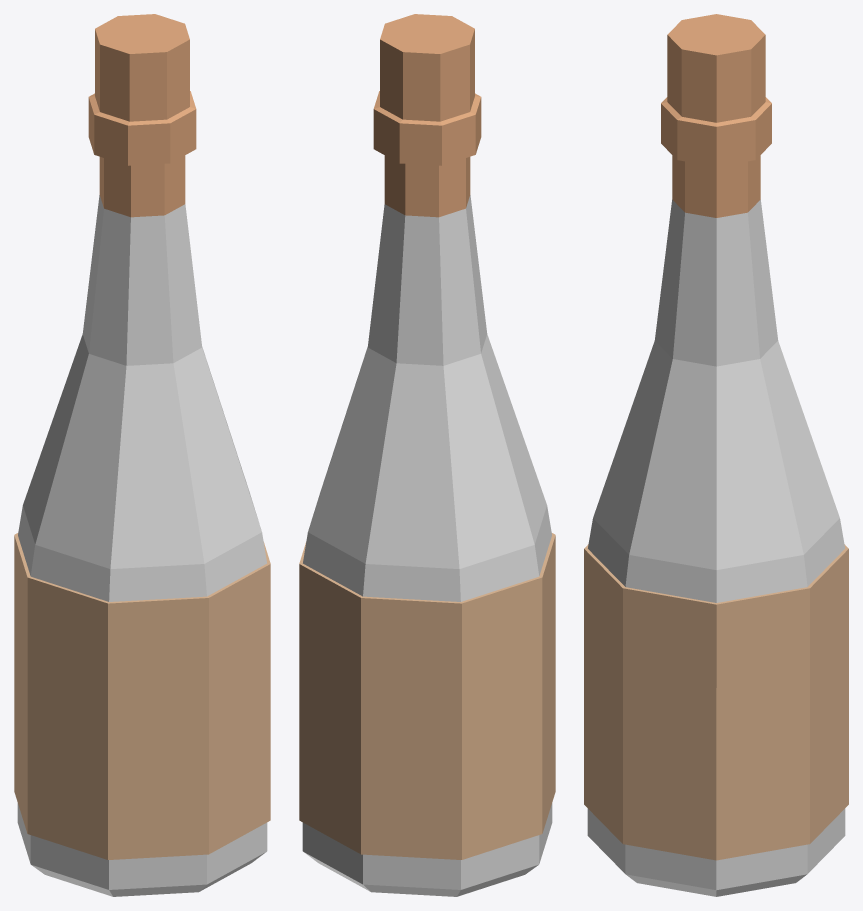
The model's file is Botella_3_2.fbx.
3 renders of one model, left to right at view 1: azimuth 30°, elevation 25°; view 2: azimuth 150°, elevation 25°; view 3: azimuth 270°, elevation 25°, orthographic.
Visible parts, largest first — view 1: Botella_3_2; view 2: Botella_3_2; view 3: Botella_3_2.
Boxes of the visible parts, bbox=[...] form: Botella_3_2: bbox=[14, 14, 270, 896]; Botella_3_2: bbox=[299, 14, 555, 896]; Botella_3_2: bbox=[584, 14, 848, 896].
Bounding box in the file's own units: 63.46 × 215 × 63.46.
